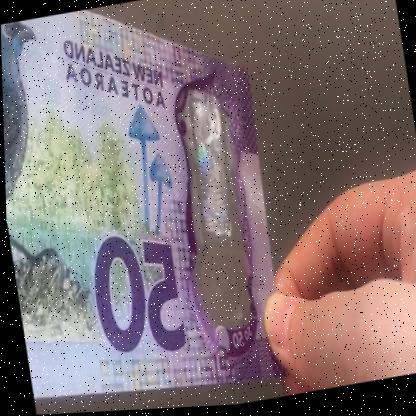50B: (177, 94, 253, 318)
